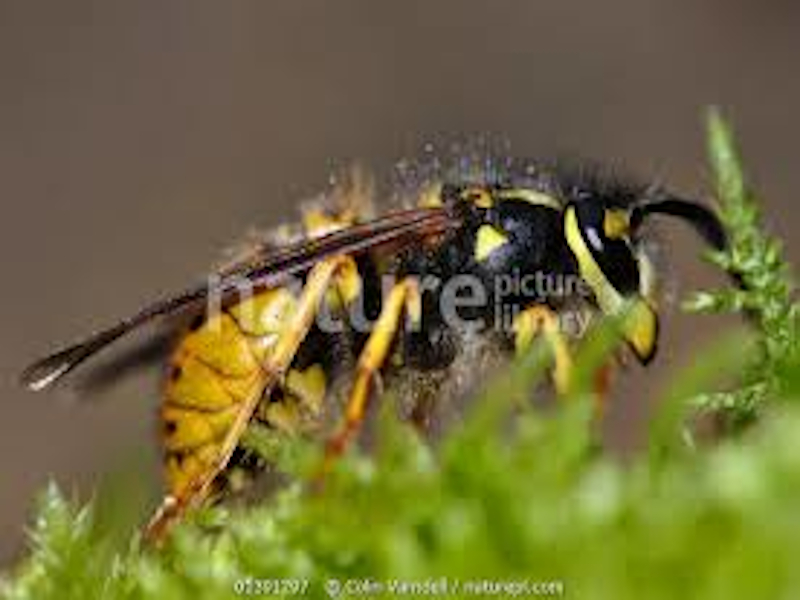chax: (1, 113, 749, 549)
